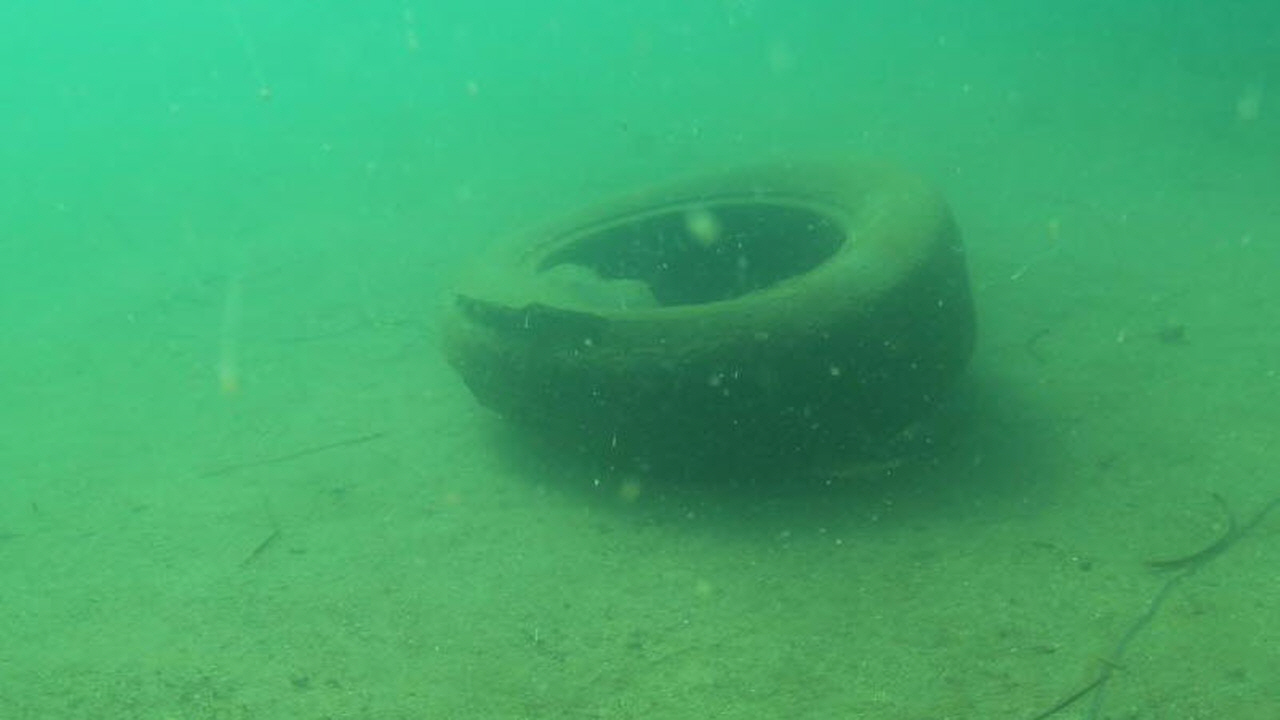tire: (437, 155, 978, 439)
